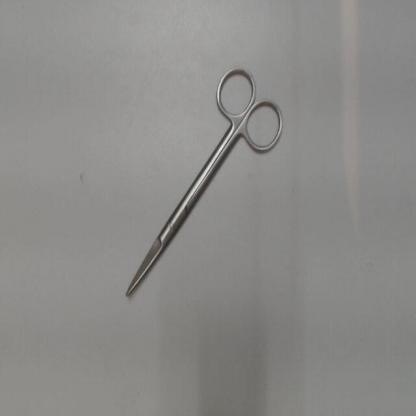Curved Mayo Scissors: (121, 61, 289, 303)
